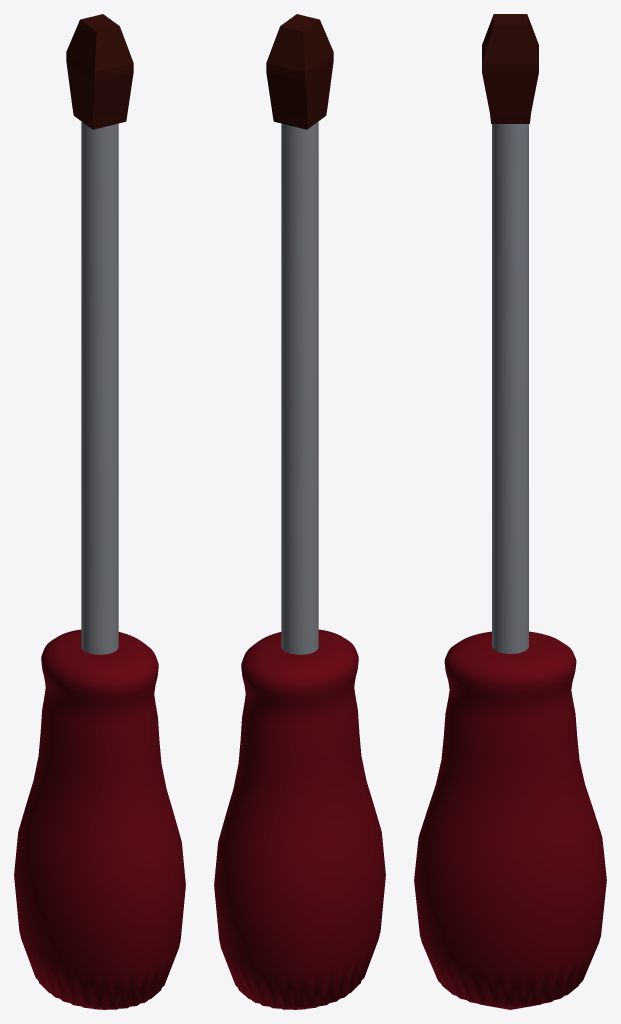
File: Screwdriver.fbx
3 renders of one model, left to right at view 1: azimuth 30°, elevation 25°; view 2: azimuth 150°, elevation 25°; view 3: azimuth 270°, elevation 25°, orthographic.
Parts seen in each view (by area): view 1: Cylinder, Cylinder.001, Cube; view 2: Cylinder, Cylinder.001, Cube; view 3: Cylinder, Cylinder.001, Cube.
Boxes of the visible parts, x1,y1,x2,y2 form: Cylinder: (14,629,185,1009); Cylinder.001: (81,121,118,654); Cube: (66,14,133,129); Cylinder: (214,629,385,1009); Cylinder.001: (281,121,318,654); Cube: (266,14,333,129); Cylinder: (414,631,606,1009); Cylinder.001: (492,124,528,653); Cube: (482,14,538,123).
Bounding box in the file's own units: 40.96 × 271 × 47.82.
